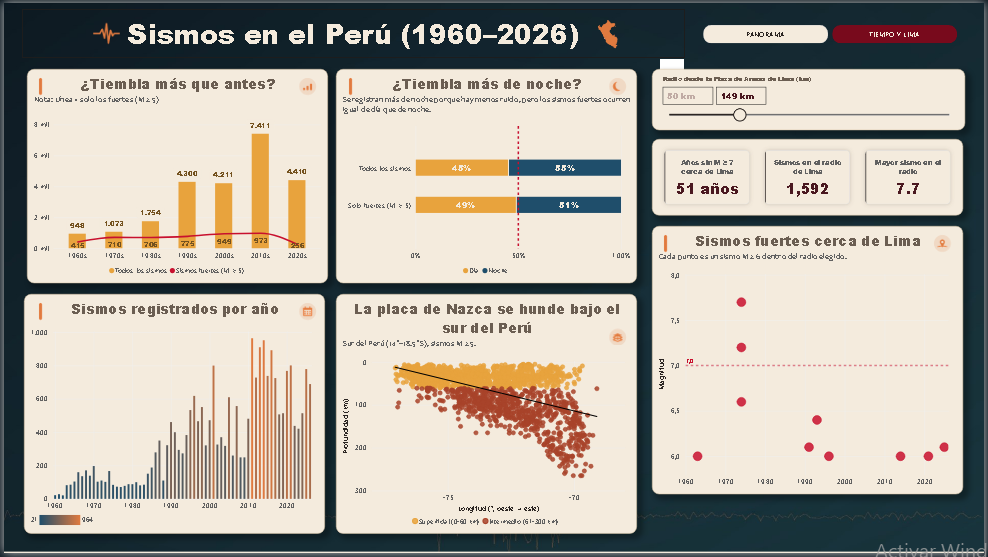

This screenshot's page, from the dashboard's own definition file:
{"tool":"powerbi","page":{"name":"TIEMPO Y LIMA","canvas":[1920,1080],"ordinal":1},"visuals":[{"type":"textbox","box":[36,12,1300,96],"z":0},{"type":"lineStackedColumnComboChart","title":"¿Tiembla más que antes?\t","fields":{"Category":["Sismos.DECADA"],"Y":["Medidas.Total Sismos"],"Y2":["Medidas.Sismos fuertes (M ≥ 5)"]},"box":[46,130,590,420],"z":2000},{"type":"barChart","title":"¿Tiembla más de noche?\t","fields":{"Category":["Grupo Sismos.Grupo"],"Series":["Sismos.Momento del día"],"Y":["Medidas.% del grupo"]},"box":[650,130,590,420],"z":3000},{"type":"slicer","fields":{"Values":["Radio Lima.Radio km"]},"box":[1270,130,614,120],"z":4000},{"type":"cardVisual","fields":{"Data":["Medidas.Años sin M ≥ 7 cerca de Lima","Medidas.Sismos en el radio","Medidas.Mayor sismo en el radio"]},"box":[1270,265.7,610,150],"z":5000},{"type":"scatterChart","title":"Sismos fuertes cerca de Lima\t","fields":{"X":["Sismos.ANIO"],"Y":["Sismos.MAGNITUD"]},"box":[1270,438,610,526],"z":6000},{"type":"clusteredColumnChart","title":"Sismos registrados por año\t","fields":{"Category":["Sismos.ANIO"],"Y":["Medidas.Total Sismos"]},"box":[40,570,590,470],"z":7000},{"type":"scatterChart","title":"La placa de Nazca se hunde bajo el sur del Perú\t","fields":{"Category":["Sismos.FECHA_HORA_UTC"],"Series":["Sismos.TIPO_PROFUNDIDAD"],"X":["Avg(Sismos.LONGITUD)"],"Y":["Sismos.PROFUNDIDAD"]},"box":[650,570,590,470],"z":8000},{"type":"pageNavigator","box":[1358,34,522,56],"z":9000},{"type":"image","box":[160,20,80,80],"z":9001},{"type":"image","box":[1150,15,66,90],"z":9002},{"type":"image","box":[46,130,590,60],"z":9003},{"type":"image","box":[652,130,590,60],"z":9004},{"type":"image","box":[46,570,590,60],"z":9005},{"type":"image","box":[652,570,590,100],"z":9006},{"type":"image","box":[1271,437,609,60],"z":9007}]}

Visuals, with their boxes in screenshot pixels (x1, y1, x2, y2), scaled from the page's 1920x1080 canvas onto the 988x557 screenshot:
textbox: select_region(19, 6, 687, 56)
"¿Tiembla más que antes?	" lineStackedColumnComboChart: select_region(24, 67, 327, 284)
"¿Tiembla más de noche?	" barChart: select_region(334, 67, 638, 284)
slicer - Radio Lima.Radio km: select_region(654, 67, 969, 129)
cardVisual - Medidas.Años sin M ≥ 7 cerca de Lima x Medidas.Sismos en el radio: select_region(654, 137, 967, 214)
"Sismos fuertes cerca de Lima	" scatterChart: select_region(654, 226, 967, 497)
"Sismos registrados por año	" clusteredColumnChart: select_region(21, 294, 324, 536)
"La placa de Nazca se hunde bajo el sur del Perú	" scatterChart: select_region(334, 294, 638, 536)
pageNavigator: select_region(699, 18, 967, 46)
image: select_region(82, 10, 123, 52)
image: select_region(592, 8, 626, 54)
image: select_region(24, 67, 327, 98)
image: select_region(336, 67, 639, 98)
image: select_region(24, 294, 327, 325)
image: select_region(336, 294, 639, 346)
image: select_region(654, 225, 967, 256)
